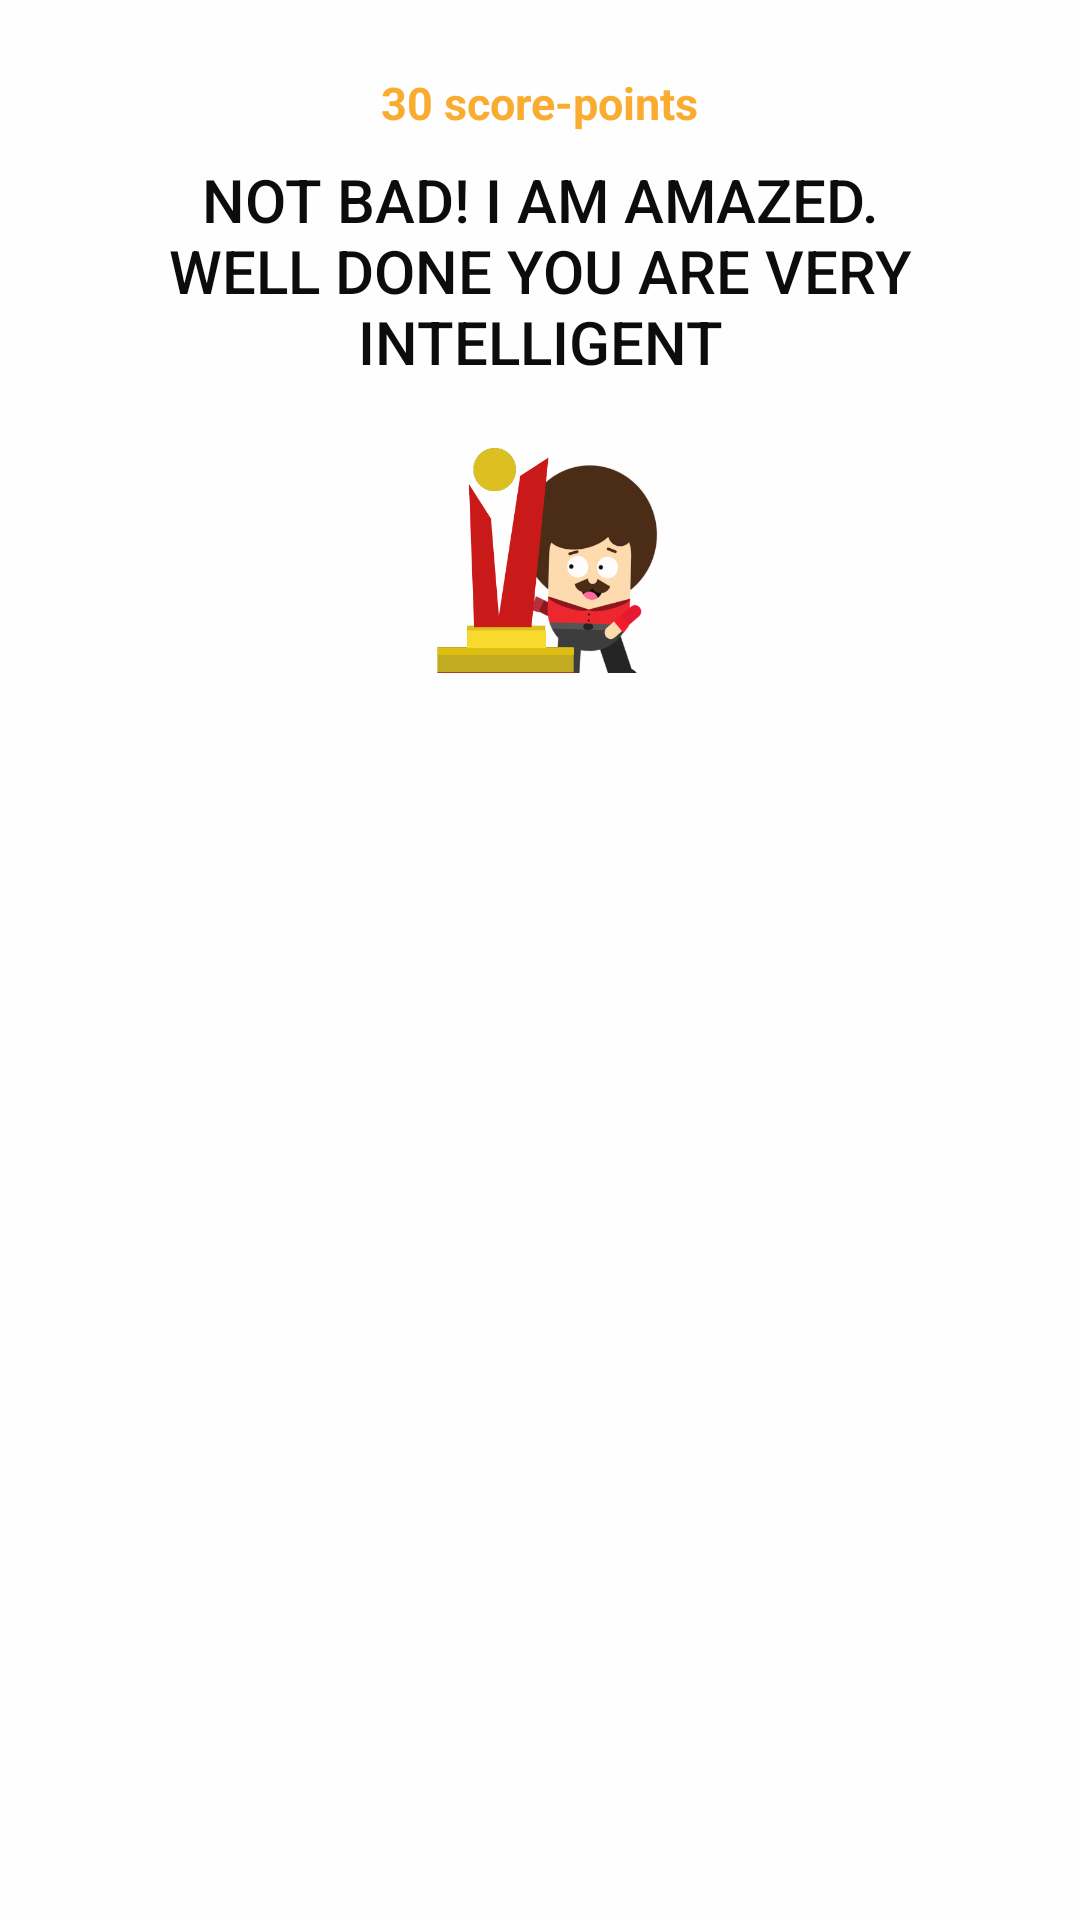

Icons on this 1080w x 1920h Android screen, each with its box as (x1, y1, x2, y2):
trophy: (437, 448, 657, 673)
